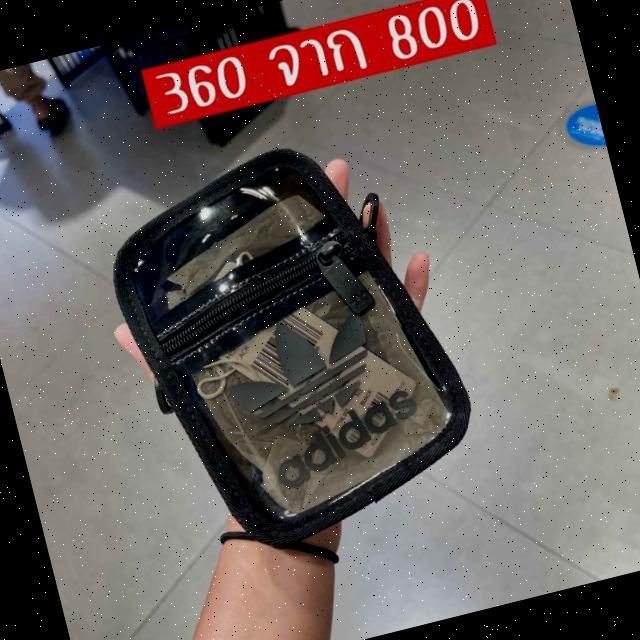handbag: (83, 98, 509, 572)
